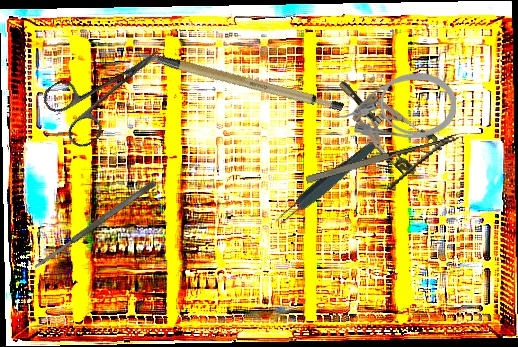Cannula: (335, 71, 457, 141)
Iris Scissors: (38, 25, 181, 153)
Needle Holder: (304, 133, 467, 209)
Scalpel Handle: (133, 17, 346, 139)
Spatula Surgical: (31, 178, 158, 272)
Speculum: (324, 63, 446, 183)
Tissue Forceps: (272, 136, 381, 229)
